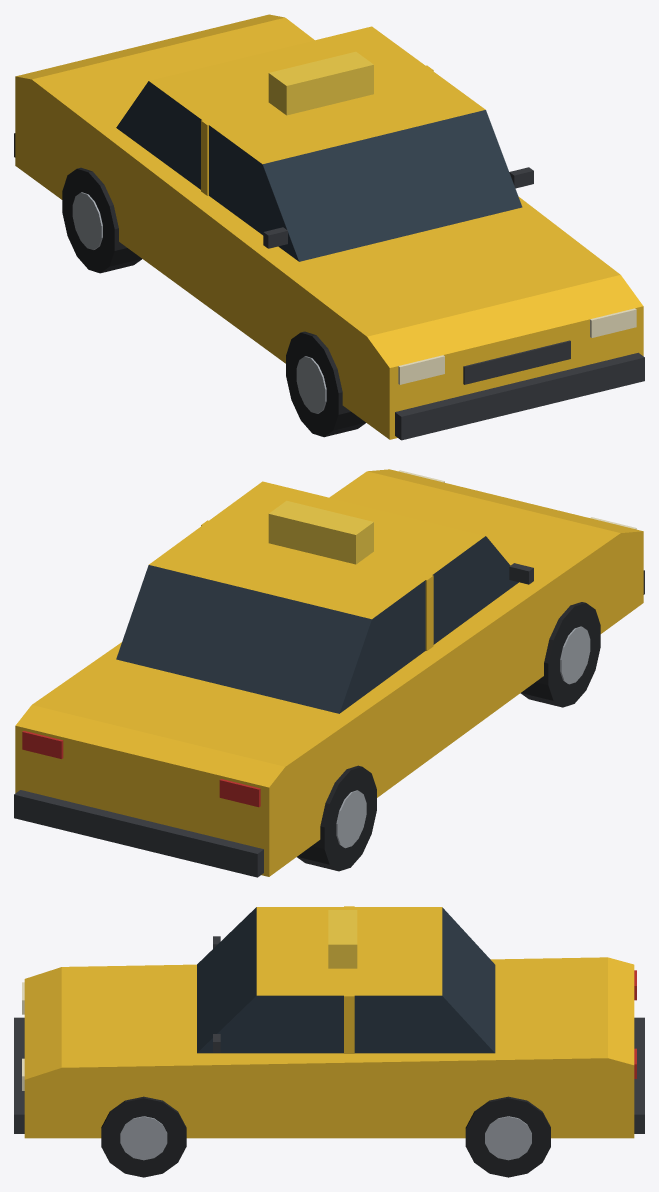
The model's file is taxi.glb.
3 renders of one model, top to bottom at view 1: azimuth 30°, elevation 25°; view 2: azimuth 150°, elevation 25°; view 3: azimuth 270°, elevation 25°, orthographic. The views are drawn at different scales.
Parts seen in each view (by area): view 1: Body, Wheel_RR, Wheel_FR; view 2: Body, Wheel_FR, Wheel_RR; view 3: Body, Wheel_FL, Wheel_RL.
Boxes of the visible parts, x1,y1,x2,y2 form: Body: (14, 14, 644, 440); Wheel_RR: (62, 167, 141, 273); Wheel_FR: (286, 331, 365, 437); Body: (14, 469, 644, 877); Wheel_FR: (520, 602, 600, 707); Wheel_RR: (297, 765, 376, 871); Body: (14, 906, 644, 1138); Wheel_FL: (101, 1096, 186, 1177); Wheel_RL: (465, 1096, 550, 1177).
Size of the model in its own units: 1.88 by 1.65 by 4.76.
